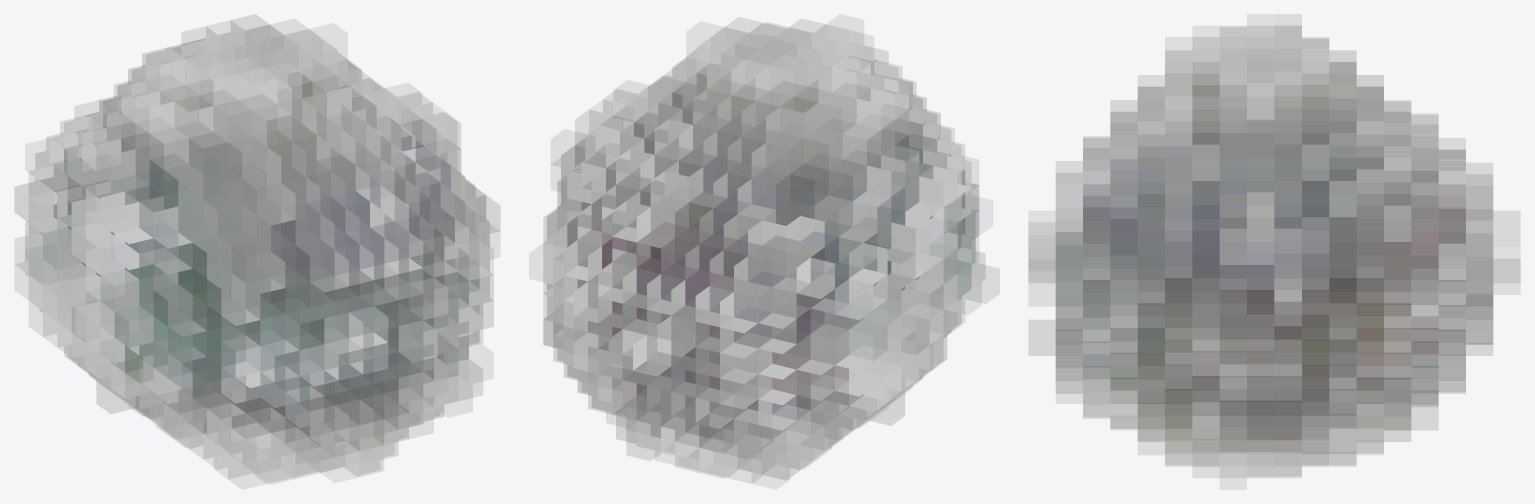
Rendered from iter_30.obj.
3 views of the same model, side by side, from view 1: azimuth 30°, elevation 25°; view 2: azimuth 150°, elevation 25°; view 3: azimuth 270°, elevation 25° (orthographic). The views are drawn at different scales.
Visible parts, largest first — view 1: iter_30; view 2: iter_30; view 3: iter_30.
Boxes of the visible parts, bbox=[...] form: iter_30: bbox=[15, 20, 499, 483]; iter_30: bbox=[543, 23, 985, 483]; iter_30: bbox=[1028, 25, 1519, 477].
Bounding box in the file's own units: 1.6 × 1.5 × 1.8.
